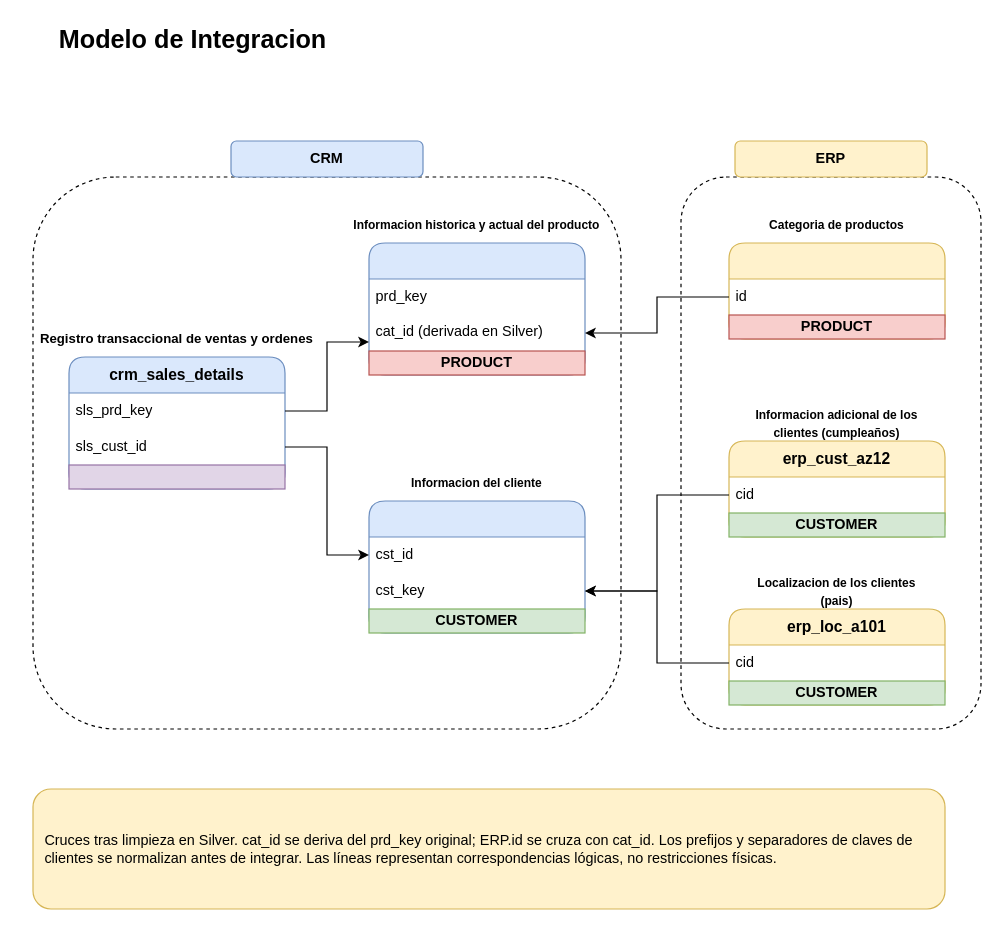
Image size: 1002x930. Some labels were removed from this diagram. Each missing label, with the box of its shape:
crm_cust_info: (368, 500, 585, 633)
crm_prd_info: (368, 242, 585, 375)
erp_px_cat_g1v2: (728, 242, 945, 339)
SALES: (68, 464, 285, 489)
